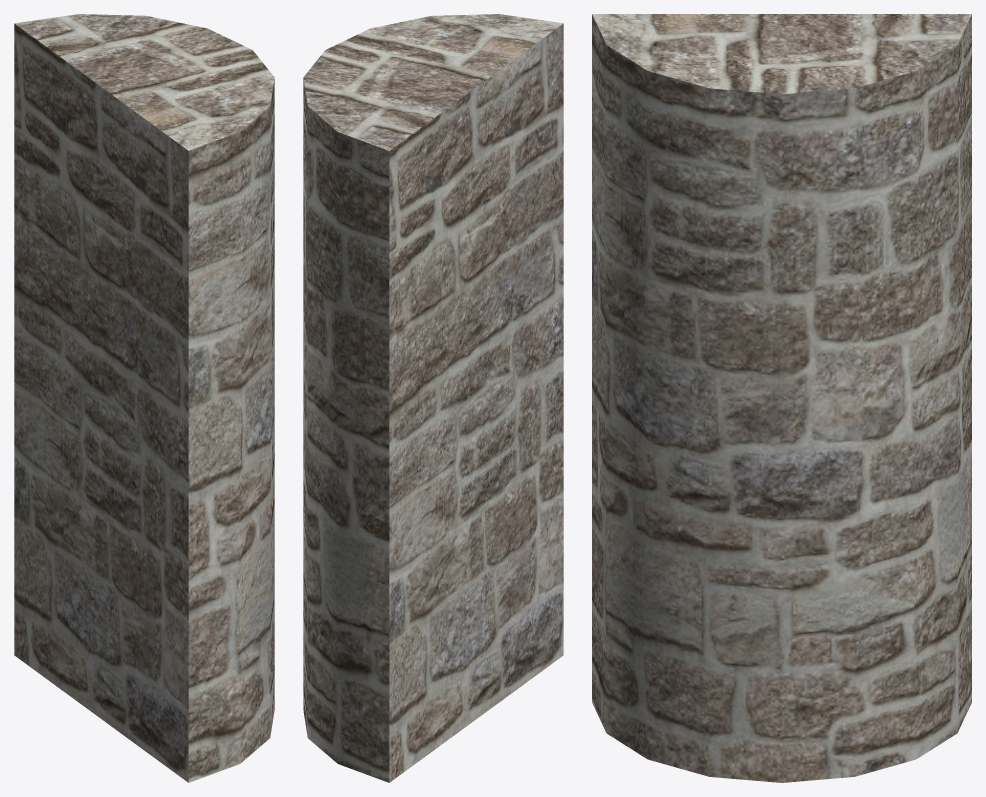
File: wall_engaged.obj
3 views of the same model, side by side, from view 1: azimuth 30°, elevation 25°; view 2: azimuth 150°, elevation 25°; view 3: azimuth 270°, elevation 25° (orthographic). The views are drawn at different scales.
Bounding box in the file's own units: 0.5012 × 2 × 1.
Materials: 1 (1 with a texture image).
